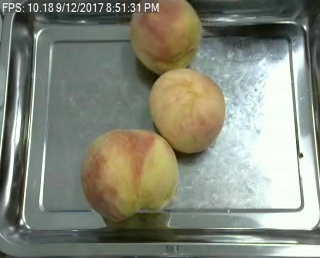Peach: (80, 128, 177, 223), (149, 68, 226, 153), (129, 0, 201, 73)
